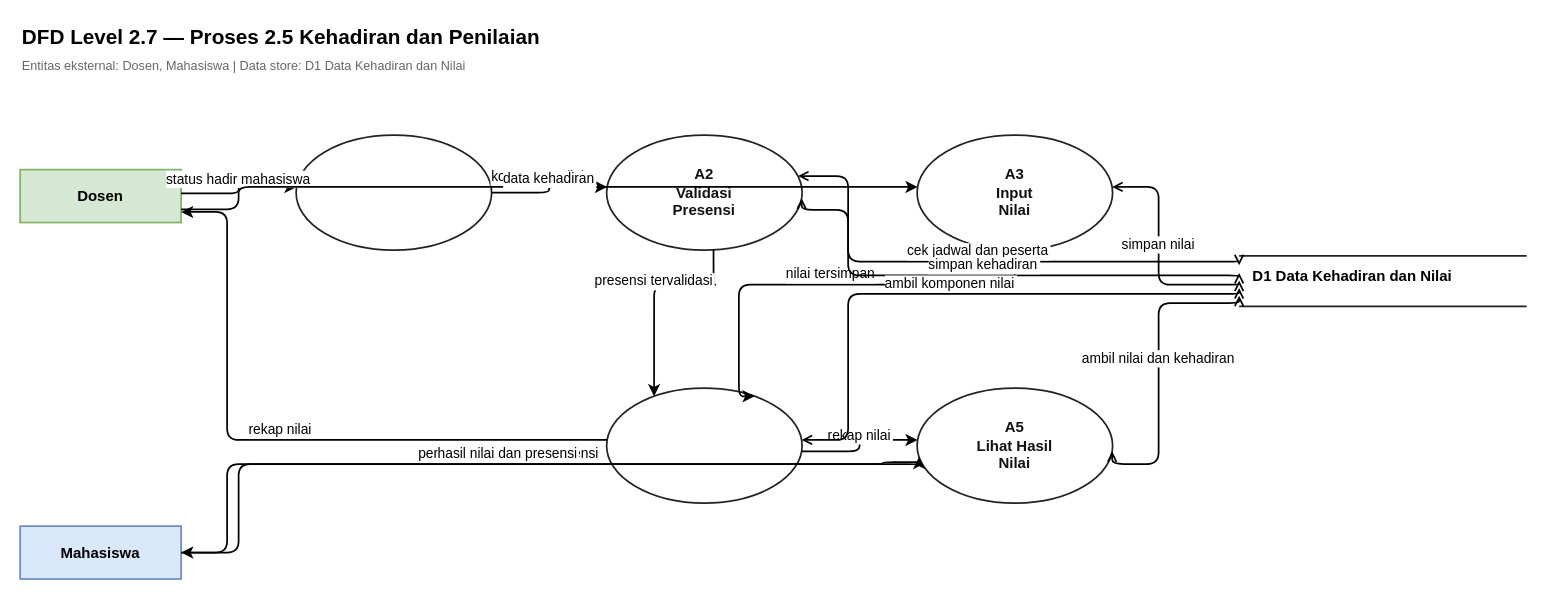
The diagram is 1548 pixels wide and 599 high, and some of its shapes have lost their labels. The shapes that lost their labels are listed below. From the top down, each one's centre as x and y in pixels, then its label:
At pixel 393 192: "A1 Input Kehadiran".
At pixel 703 445: "A4 Hitung Rekap Nilai".
